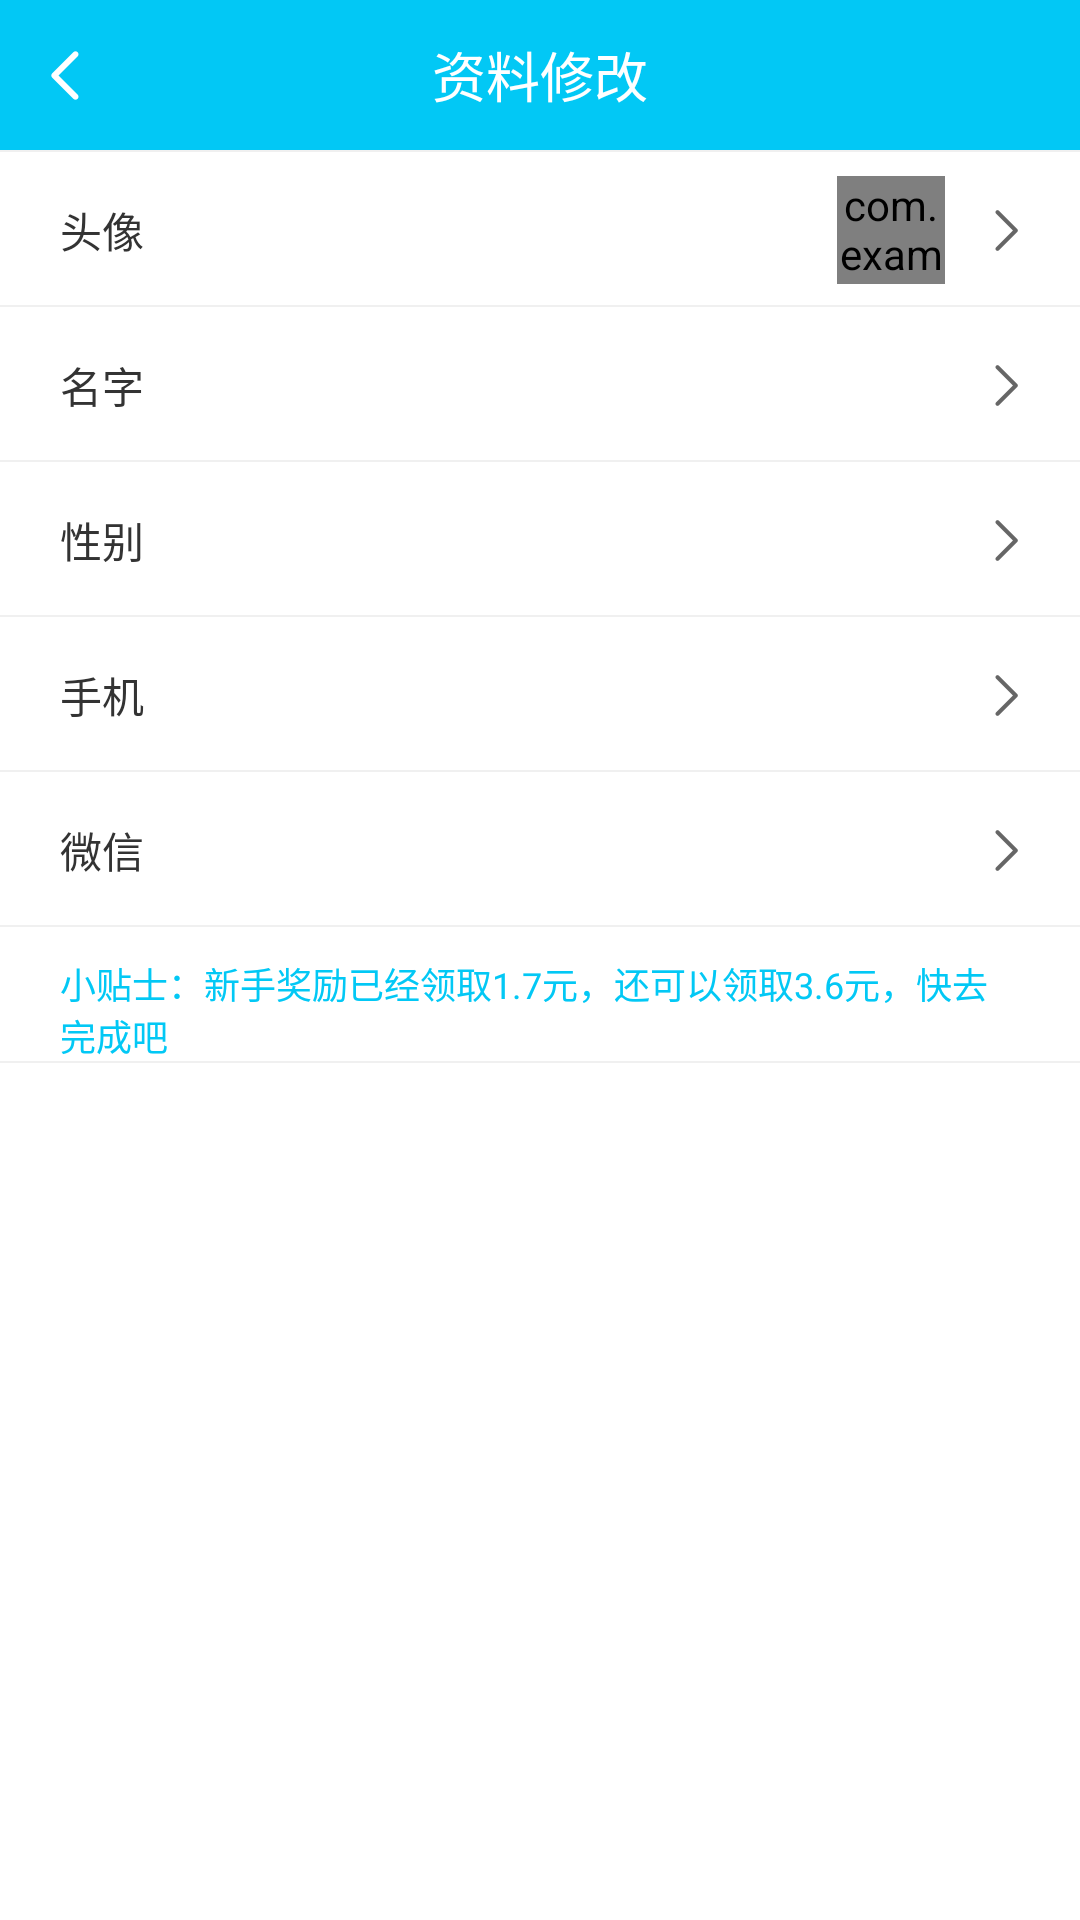

Icon click points for this 1080x1920 phone screenshot, format (x,y):
back: (65,75)
right: (1006,230), (1006,385), (1006,540), (1006,695), (1006,850)
